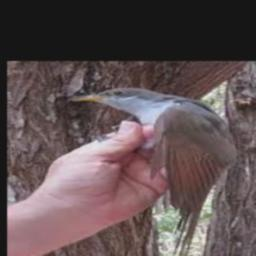Cuckoo: (69, 88, 237, 256)
